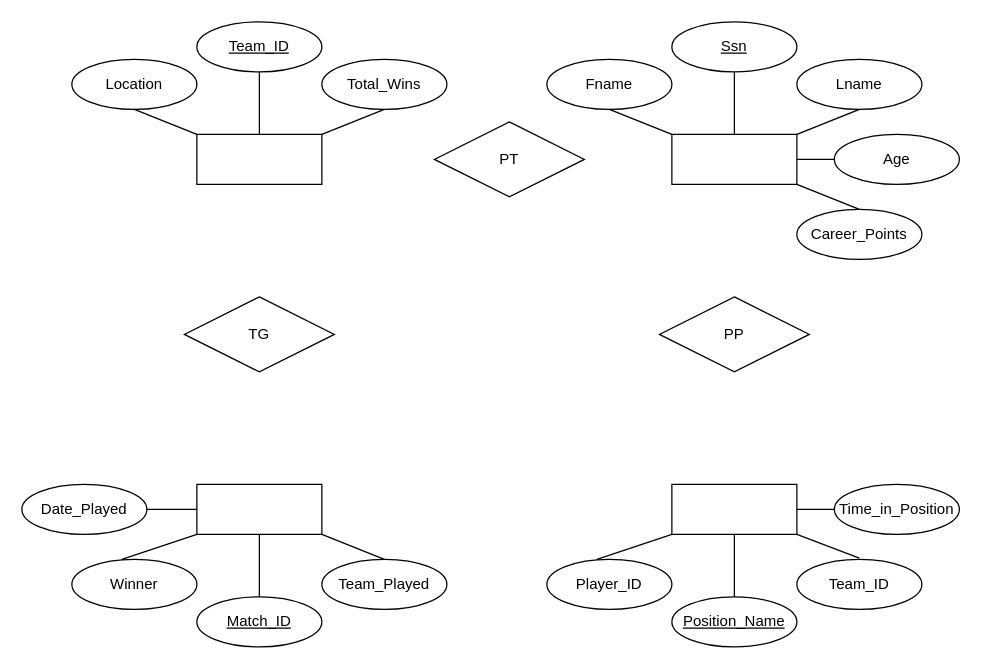
Some shapes in this 981 by 669 pixel diagram are drawn without their labels. The shapes that lost their labels are listed below. From the top down, each one's centre as x and y in pixels, then its label:
At point (259, 158): "TEAM".
At point (734, 158): "PLAYER".
At point (259, 508): "GAME".
At point (734, 508): "POSITION".
